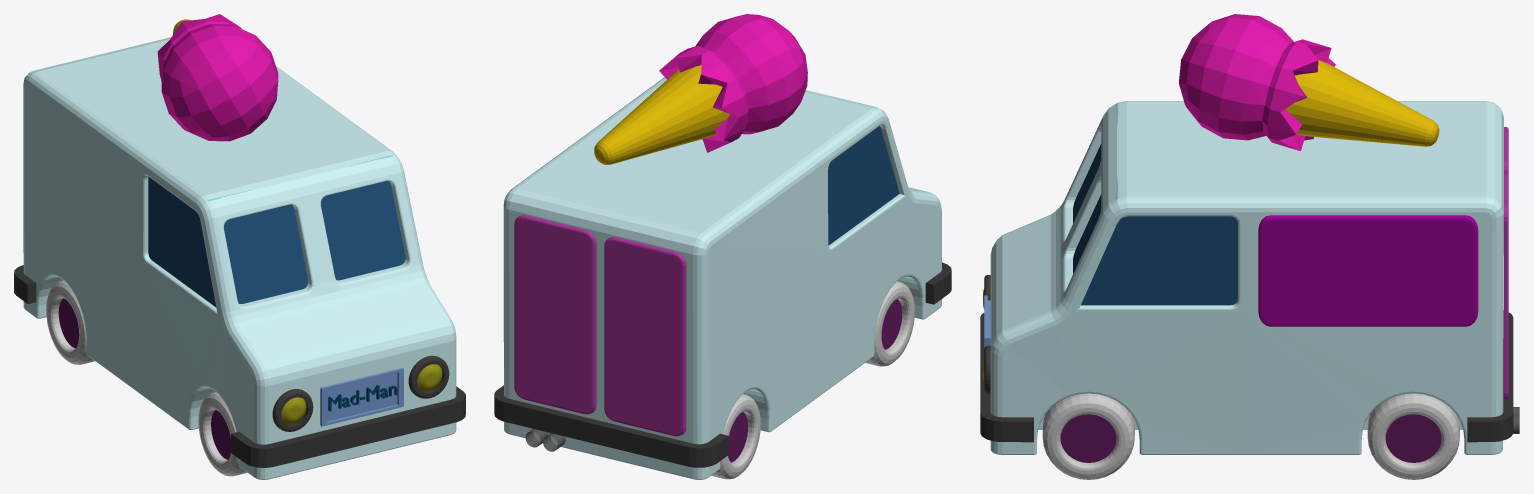
Rendered from Truck.fbx.
3 views of the same model, side by side, from view 1: azimuth 30°, elevation 25°; view 2: azimuth 150°, elevation 25°; view 3: azimuth 270°, elevation 25° (orthographic). The views are drawn at different scales.
Visible parts, largest first — view 1: body, icecream, gelgir, plate, lightFront, wheelsBack, wheelsFront, Text; view 2: body, backDoor, icecream, iceCreamCone, gelgir, wheelsFront, wheelsBack; view 3: body, backWindow, icecream, iceCreamCone, wheelsBack, wheelsFront, gelgir, backDoor.
Part boxes in pixels (box(x1,y1,x2,y2)): body: box(23, 37, 456, 479); icecream: box(157, 14, 278, 141); gelgir: box(14, 265, 465, 467); plate: box(320, 367, 403, 426); lightFront: box(272, 355, 449, 431); wheelsBack: box(46, 280, 94, 364); wheelsFront: box(198, 392, 247, 476); Text: box(328, 385, 397, 411); body: box(503, 77, 941, 479); backDoor: box(514, 215, 686, 436); icecream: box(659, 14, 807, 152); iceCreamCone: box(594, 65, 730, 164); gelgir: box(494, 262, 951, 467); wheelsFront: box(865, 281, 914, 366); wheelsBack: box(711, 394, 760, 479); body: box(990, 101, 1503, 454); backWindow: box(1258, 215, 1478, 326); icecream: box(1178, 14, 1335, 151); iceCreamCone: box(1285, 60, 1439, 146); wheelsBack: box(1367, 393, 1459, 479); wheelsFront: box(1042, 393, 1134, 479); gelgir: box(980, 310, 1513, 442); backDoor: box(1504, 127, 1508, 399).
Bounding box in the file's own units: 622 × 1025 × 1252.
